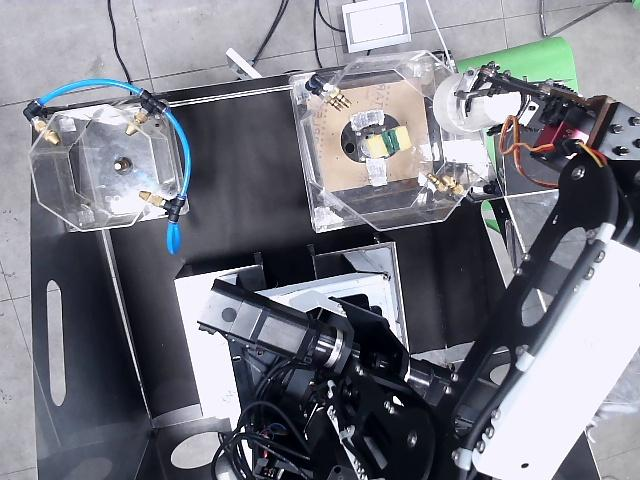cup: (434, 68, 520, 133)
